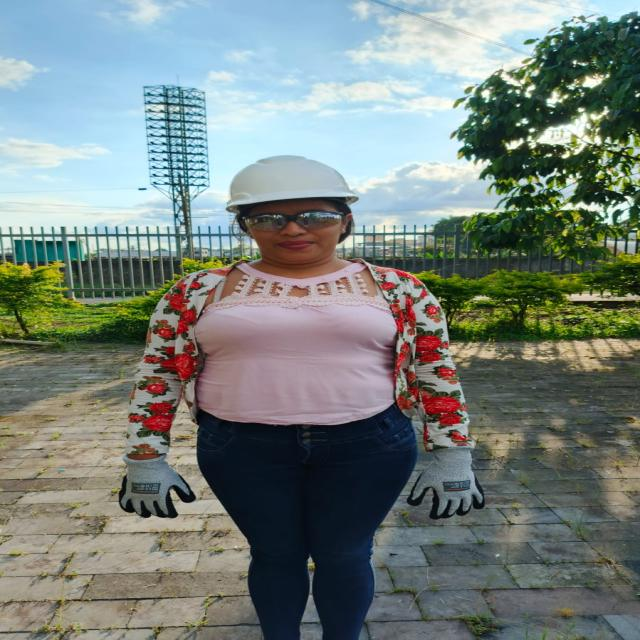gloves: (407, 447, 483, 520), (118, 455, 195, 518)
helmet: (226, 156, 358, 213)
protective_glasses: (236, 210, 345, 235)
